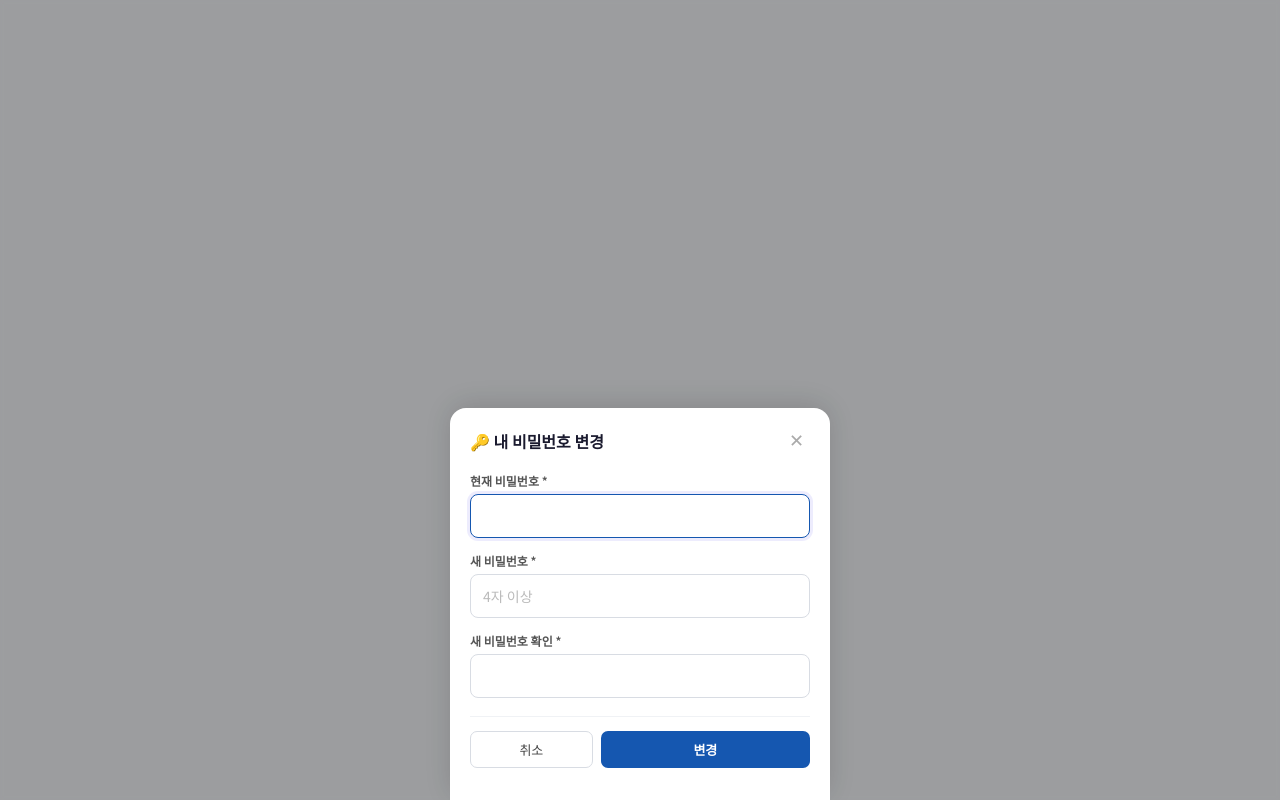
it: 내 비밀번호 변경 › 현재 비밀번호가 틀리면 서버 안내 표시
Type "wrong" into the password field below "현재 비밀번호 *".
click(640, 516); type("wrong")  # box left=470, top=494, right=810, bottom=538
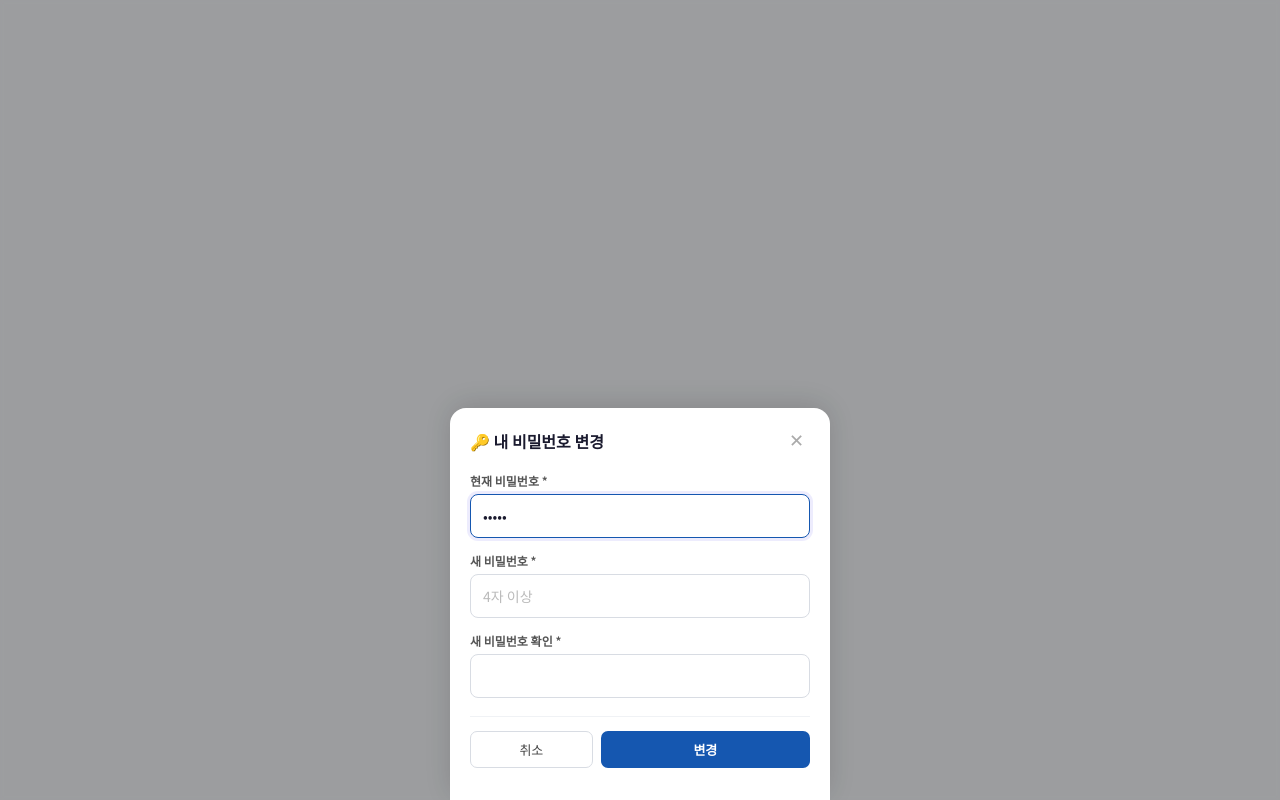
Type "abcd5678" into the password field with placeholder "4자 이상".
click(640, 596); type("abcd5678")  # box left=470, top=574, right=810, bottom=618
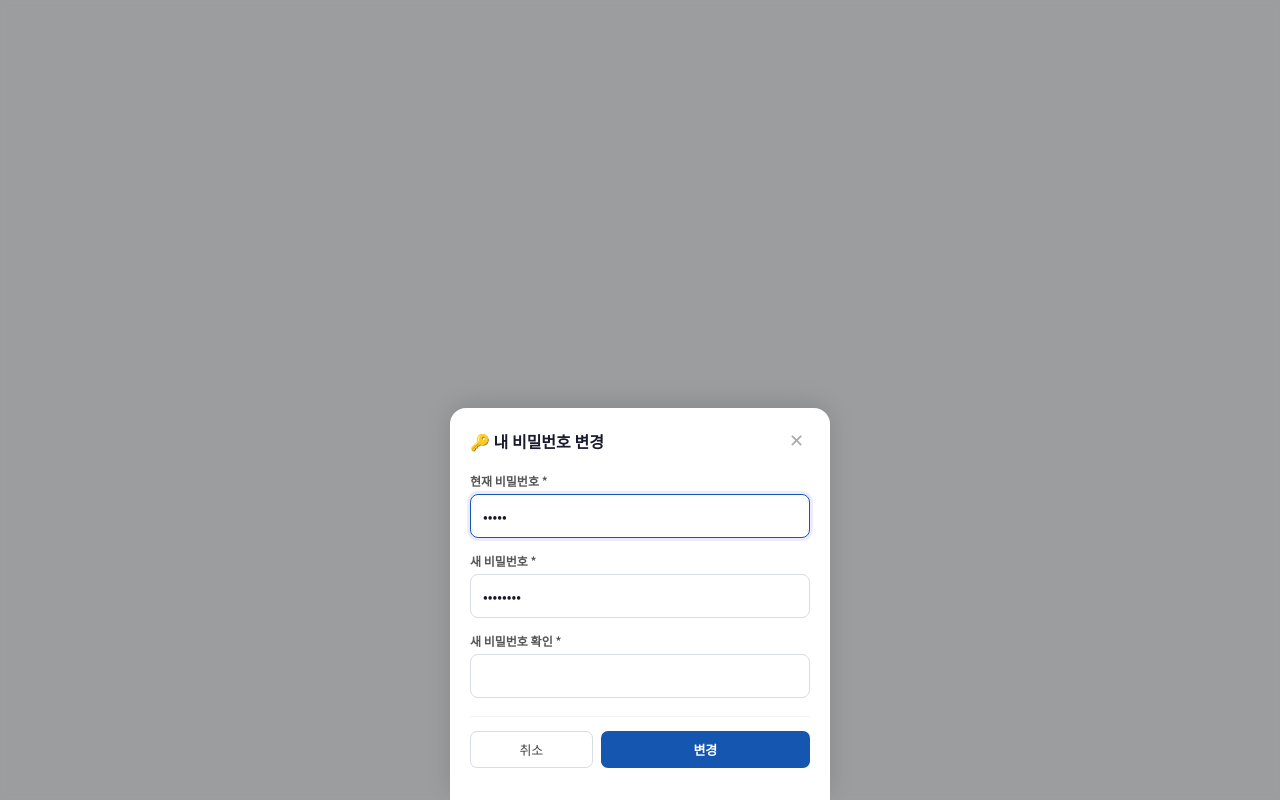
Type "abcd5678" into the password field below "새 비밀번호 확인 *".
click(640, 676); type("abcd5678")  # box left=470, top=654, right=810, bottom=698
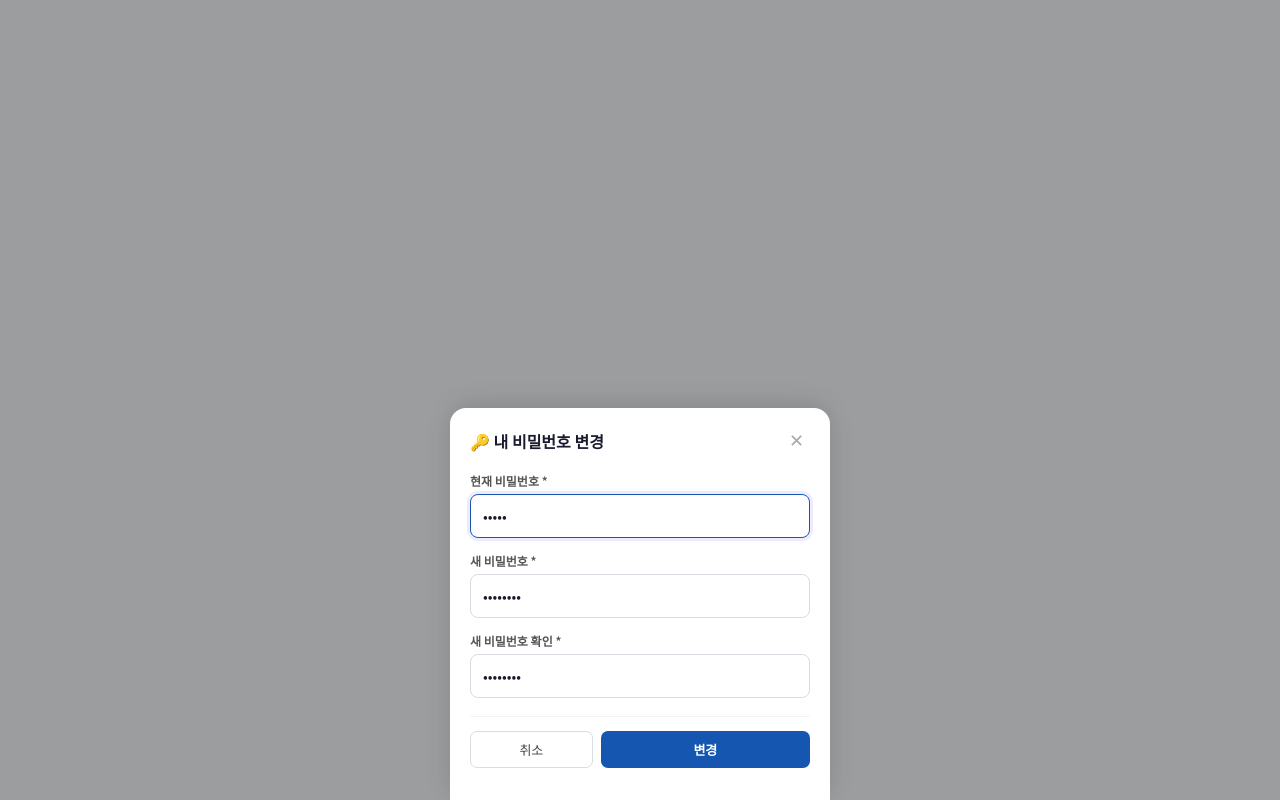
Click the button "변경".
click(705, 750)  # box left=601, top=731, right=810, bottom=768
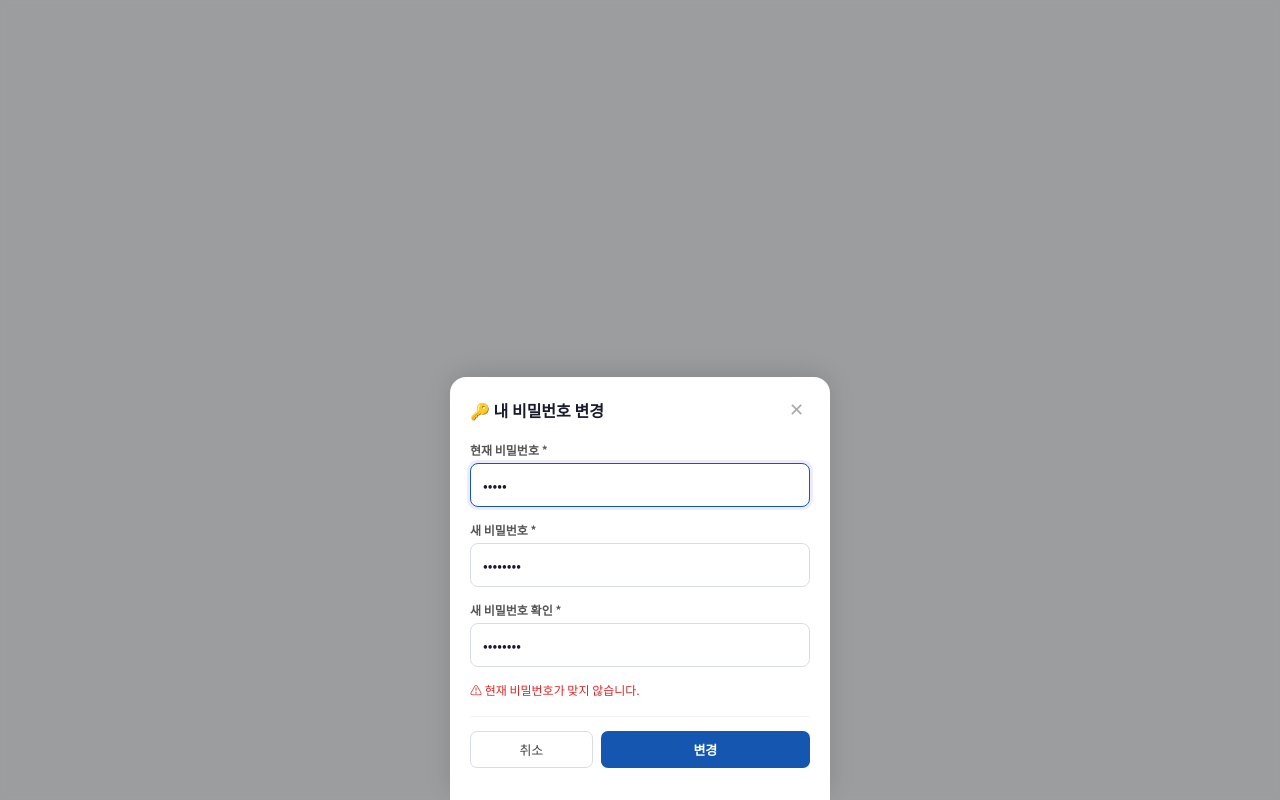
Result: the text "⚠ 현재 비밀번호가 맞지 않습니다." is shown at left=470, top=681, right=640, bottom=698
